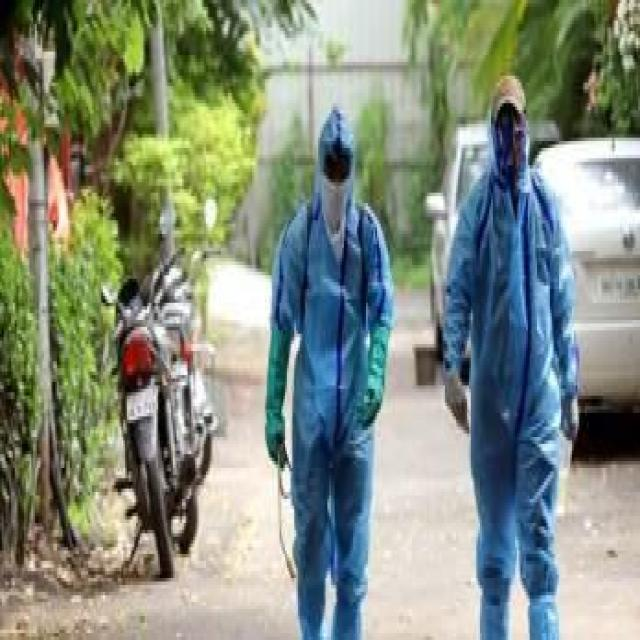Coverall: (451, 55, 592, 640), (278, 62, 418, 640)
Gloves: (250, 327, 298, 506), (355, 327, 394, 427), (432, 358, 475, 427), (555, 372, 585, 441)
